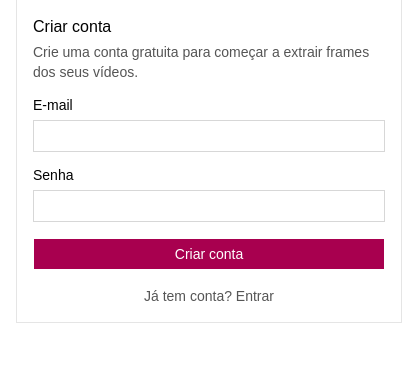
RegisterForm › mostra erro de senha curta
Type "usuario@exemplo.com" into the field labelled "E-mail" at (209,136), box [33,120,385,152]
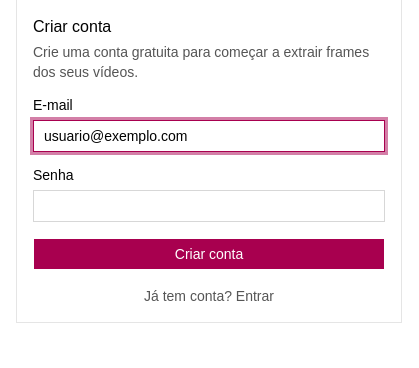
Type "1234567" into the password field labelled "Senha" at (209,206), box [33,190,385,222]
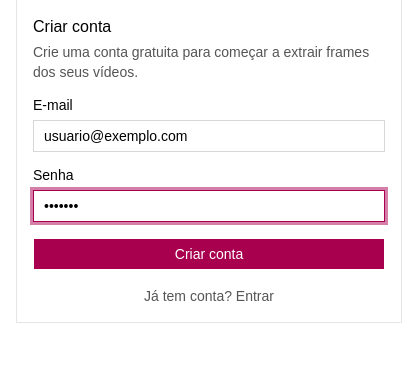
Click the button "Criar conta" at (209,254), box [33,238,385,270]
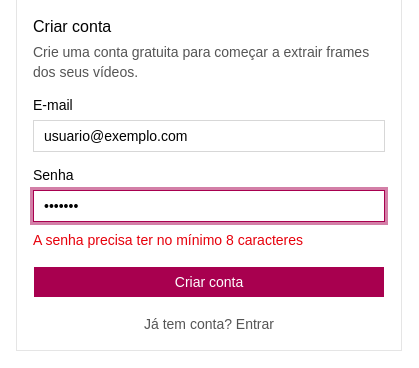
Expected: the text "A senha precisa ter no mínimo 8 caracteres" is shown, [33,232,303,248]
